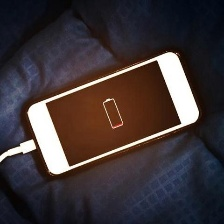phone: (18, 42, 206, 182)
